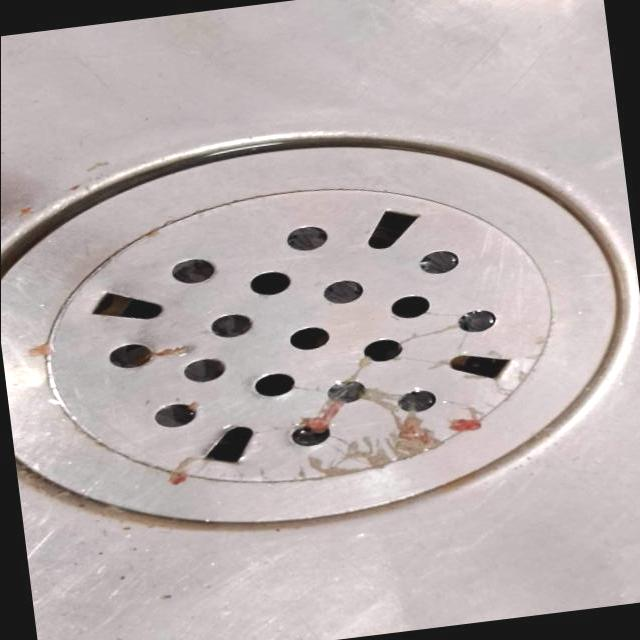General: (2, 2, 639, 640), (38, 191, 536, 493)
